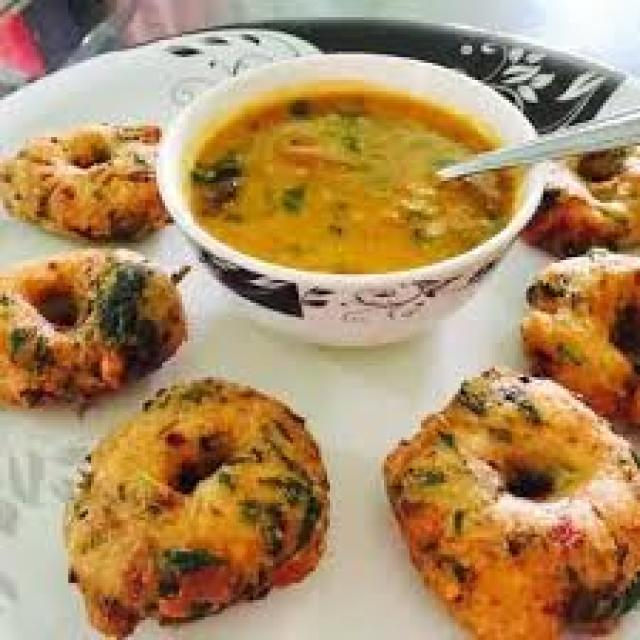MEDU VADA: (65, 377, 327, 637), (384, 369, 637, 637), (0, 249, 185, 406)
